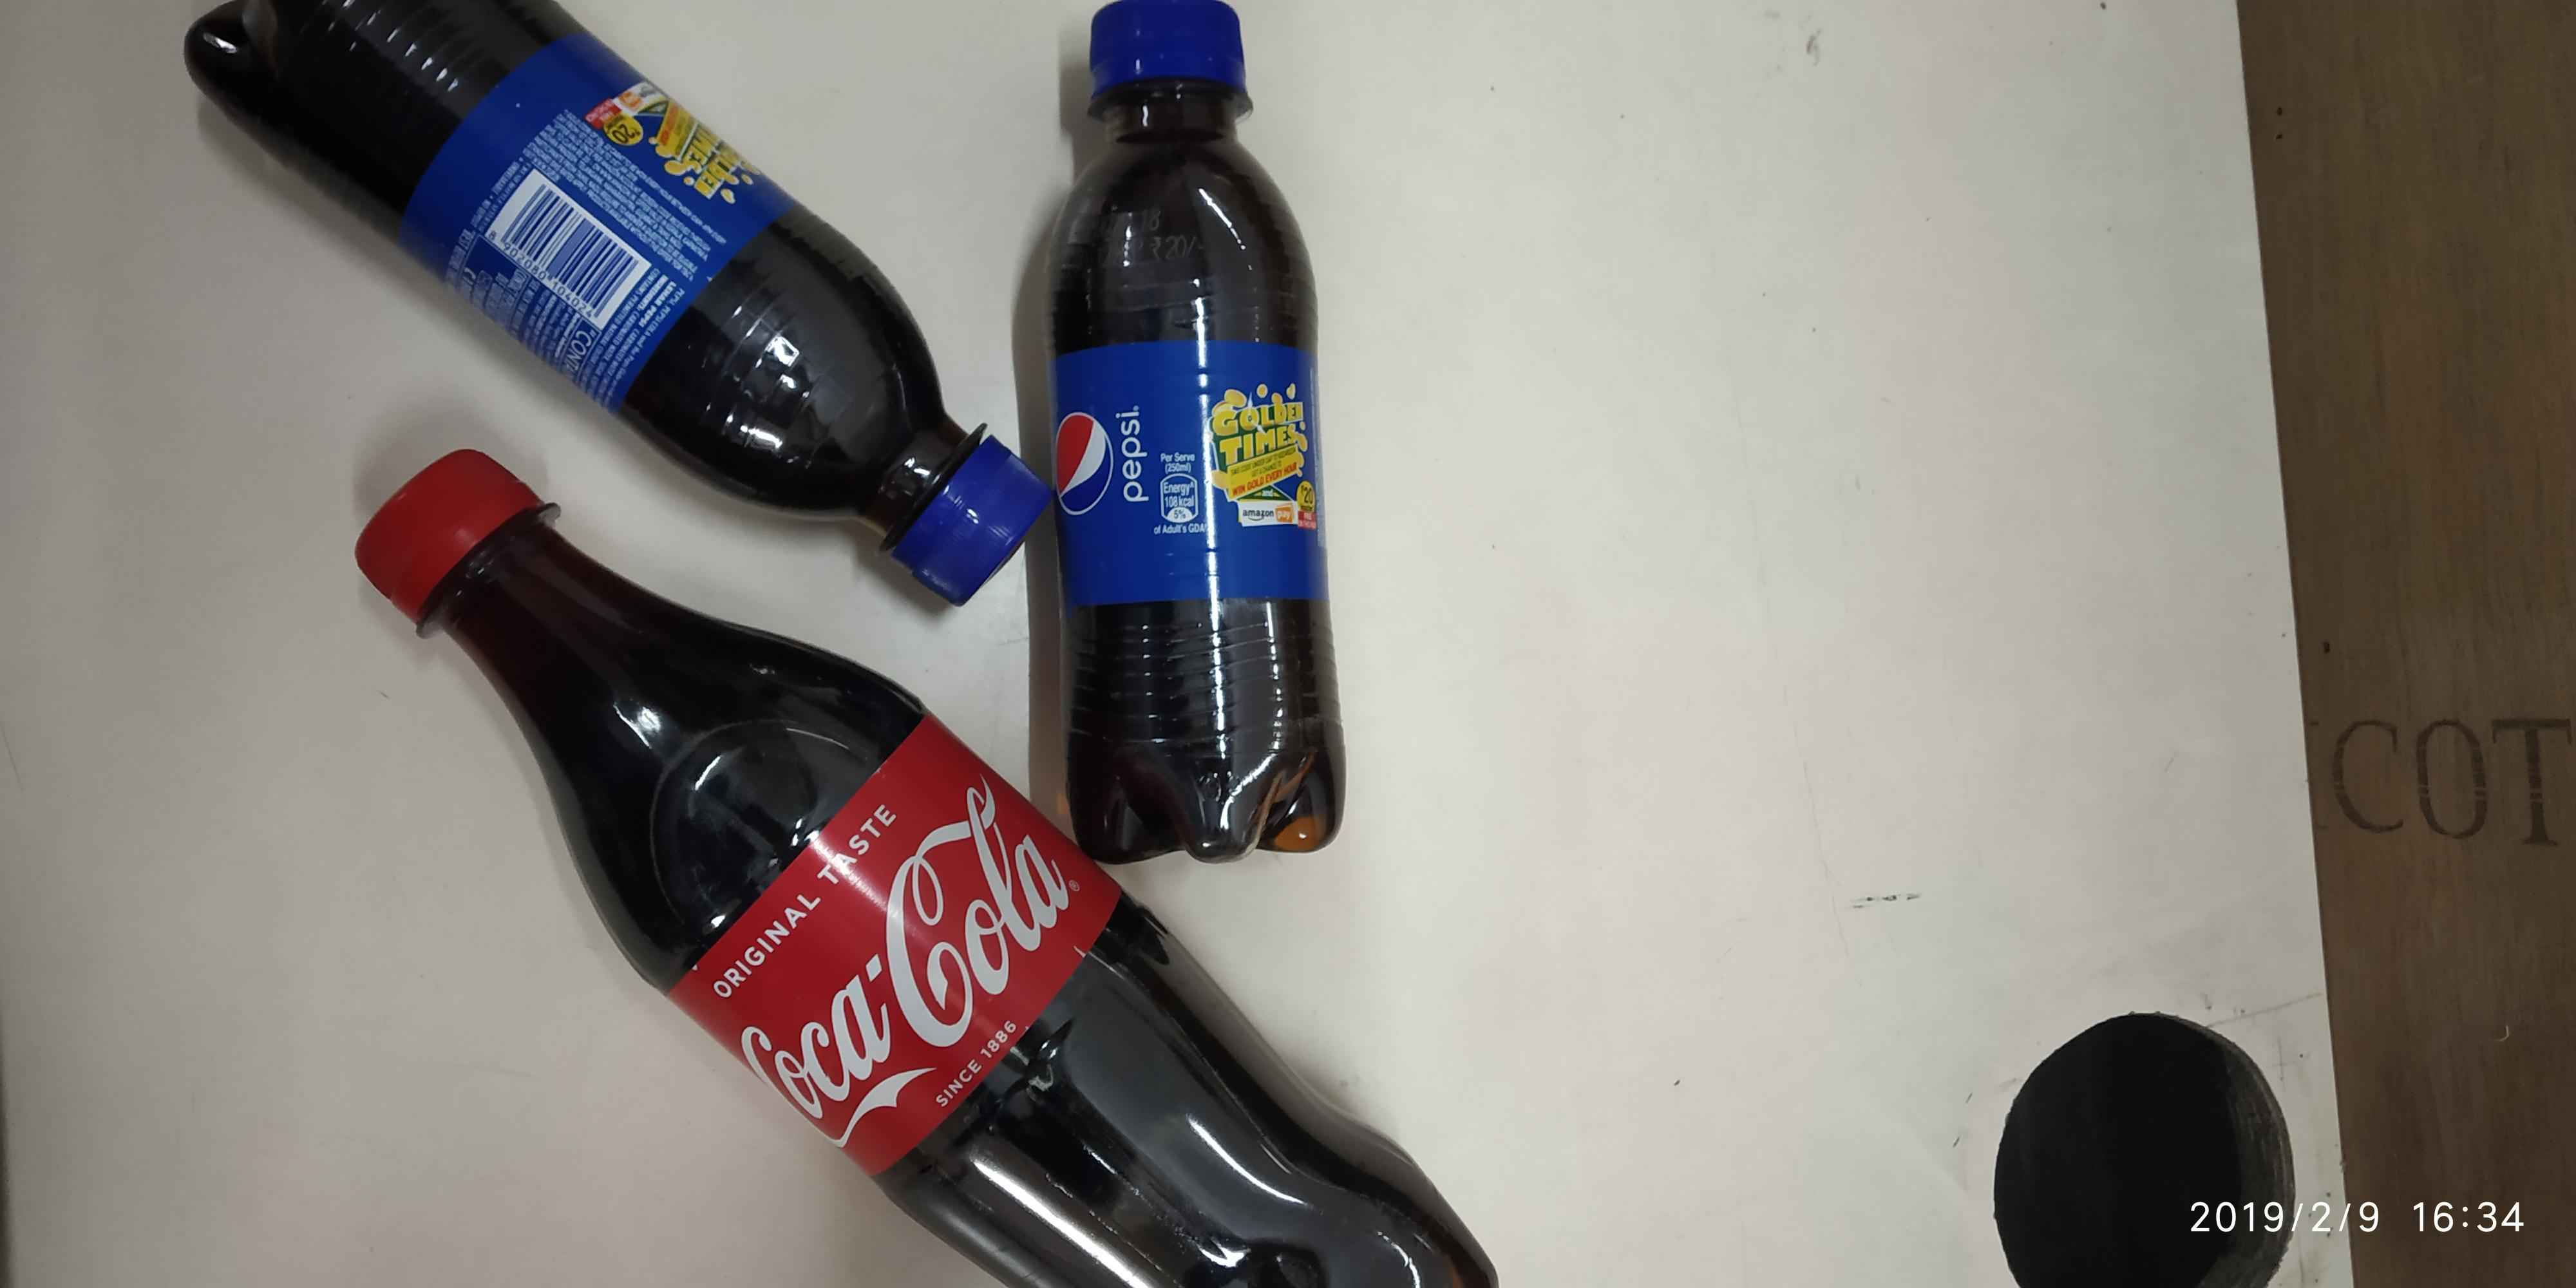Coca-Cola: (738, 777, 1074, 1160)
pepsi: (516, 54, 790, 215), (1022, 373, 1184, 567)
